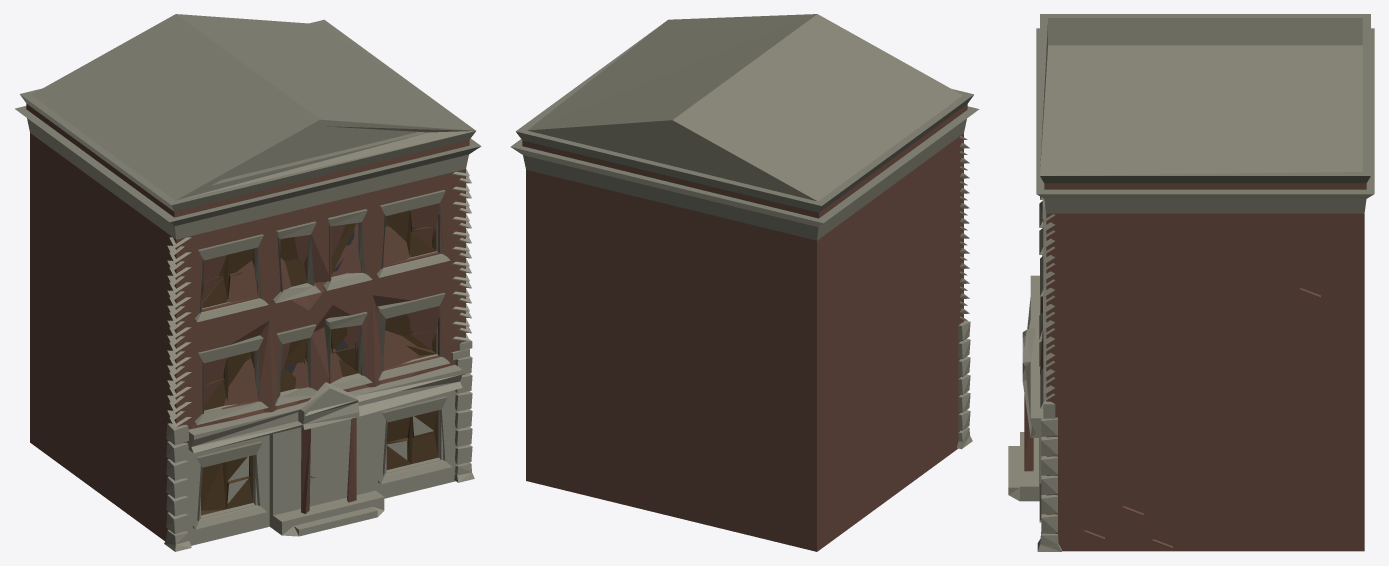
The model's file is Building3_Big_lod.glb.
The picture shows the model from 3 angles, left to right: view 1: azimuth 30°, elevation 25°; view 2: azimuth 150°, elevation 25°; view 3: azimuth 270°, elevation 25°; orthographic projection. The views are drawn at different scales.
Visible parts, largest first — view 1: Building3_Big; view 2: Building3_Big; view 3: Building3_Big.
Part boxes in pixels (x1,y1,x2,y2): Building3_Big: (15,14,481,551); Building3_Big: (510,14,979,551); Building3_Big: (1008,14,1374,551).
Bounding box in the file's own units: 4.71 × 5.68 × 4.39.
